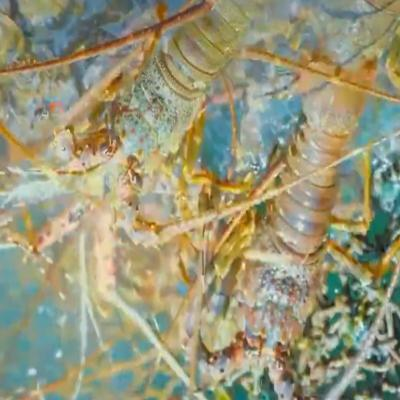lobster: (232, 87, 366, 372), (86, 12, 200, 197)
